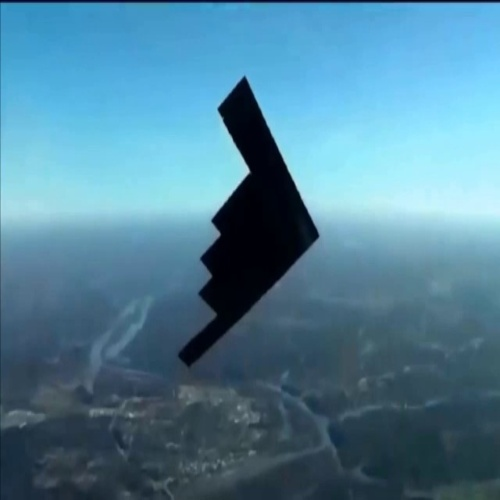uav995: (177, 69, 322, 368)
